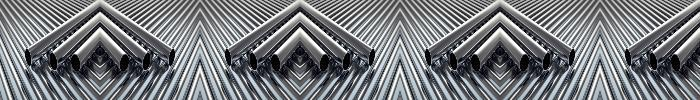pipe: (320, 54, 329, 72), (271, 54, 280, 72), (471, 54, 480, 72), (120, 54, 129, 72), (520, 54, 529, 72), (71, 54, 80, 72), (671, 54, 680, 72), (343, 53, 351, 70), (249, 53, 257, 70), (449, 53, 457, 70), (143, 53, 151, 70), (543, 53, 551, 70), (49, 53, 57, 70), (649, 53, 657, 70), (369, 49, 375, 66), (225, 49, 231, 66), (425, 49, 431, 66), (169, 49, 175, 66), (569, 49, 575, 66), (25, 49, 31, 66), (625, 49, 631, 66)
